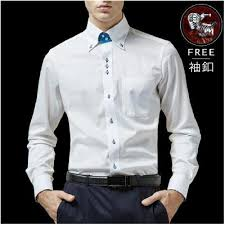F_belt: (67, 173, 169, 192)
F_shirt: (23, 16, 203, 203)
